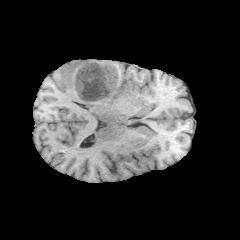glioma: (61, 63, 131, 104)
